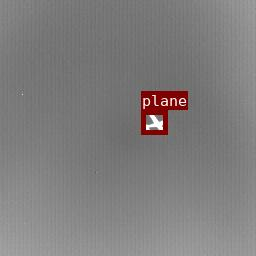plane: (141, 110, 167, 134)
